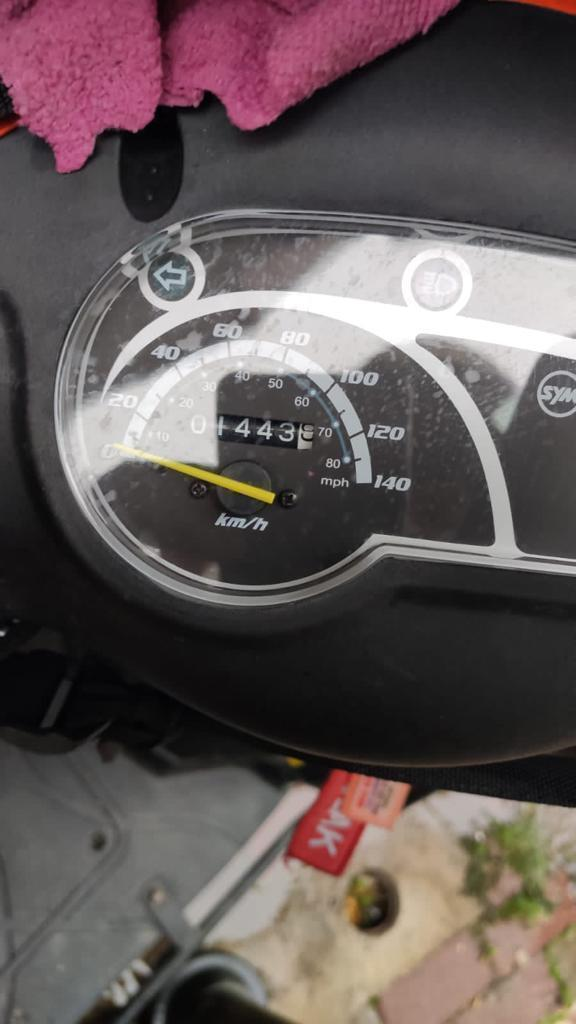0: (188, 411, 208, 443)
1: (214, 411, 228, 444)
3: (277, 420, 295, 446)
4: (257, 418, 274, 444), (234, 416, 250, 442)
8: (300, 420, 315, 445)
odometer: (175, 410, 317, 452)
